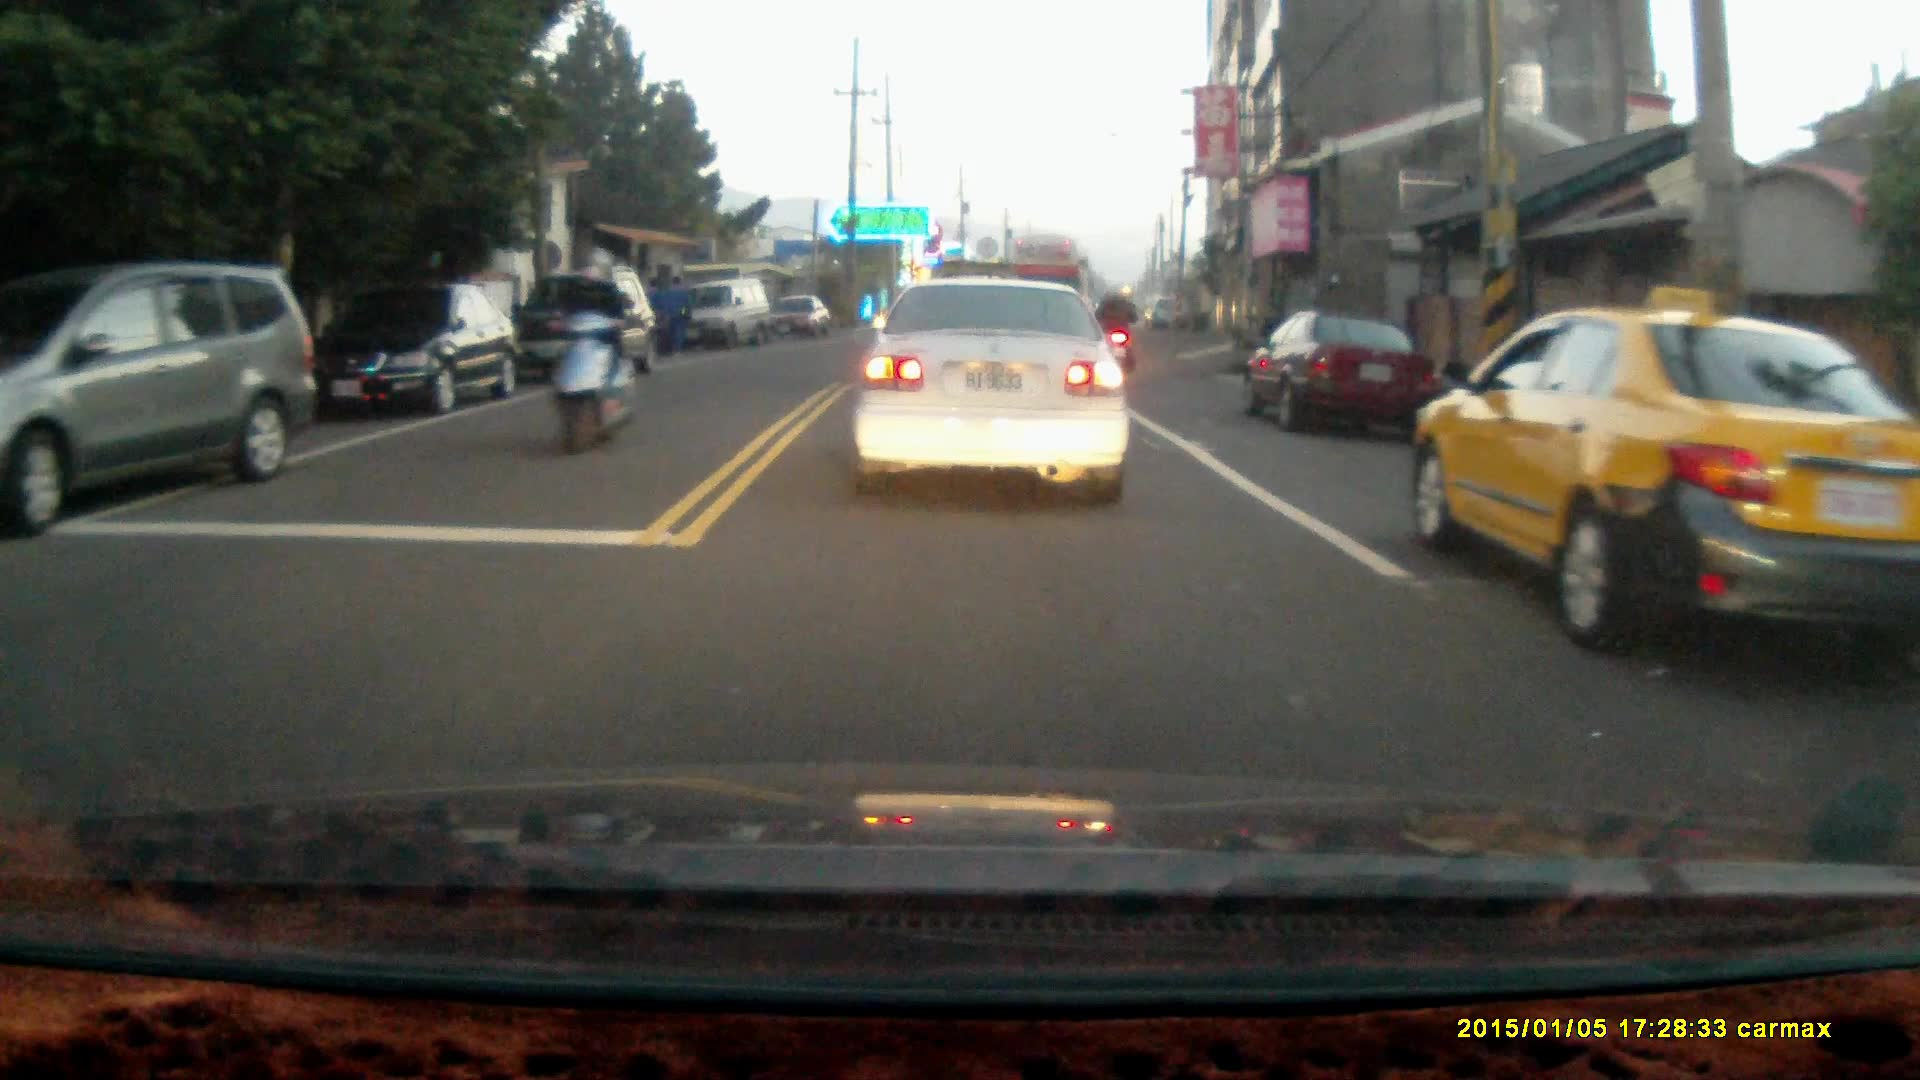pedestrian: (663, 271, 689, 354), (641, 274, 666, 352)
rider: (546, 243, 638, 457), (1084, 281, 1136, 391)
vehicle: (1407, 310, 1920, 664), (1, 262, 319, 526), (852, 282, 1128, 511), (303, 283, 531, 417), (1244, 311, 1438, 435), (504, 265, 664, 388), (668, 280, 771, 354), (755, 297, 833, 349)
